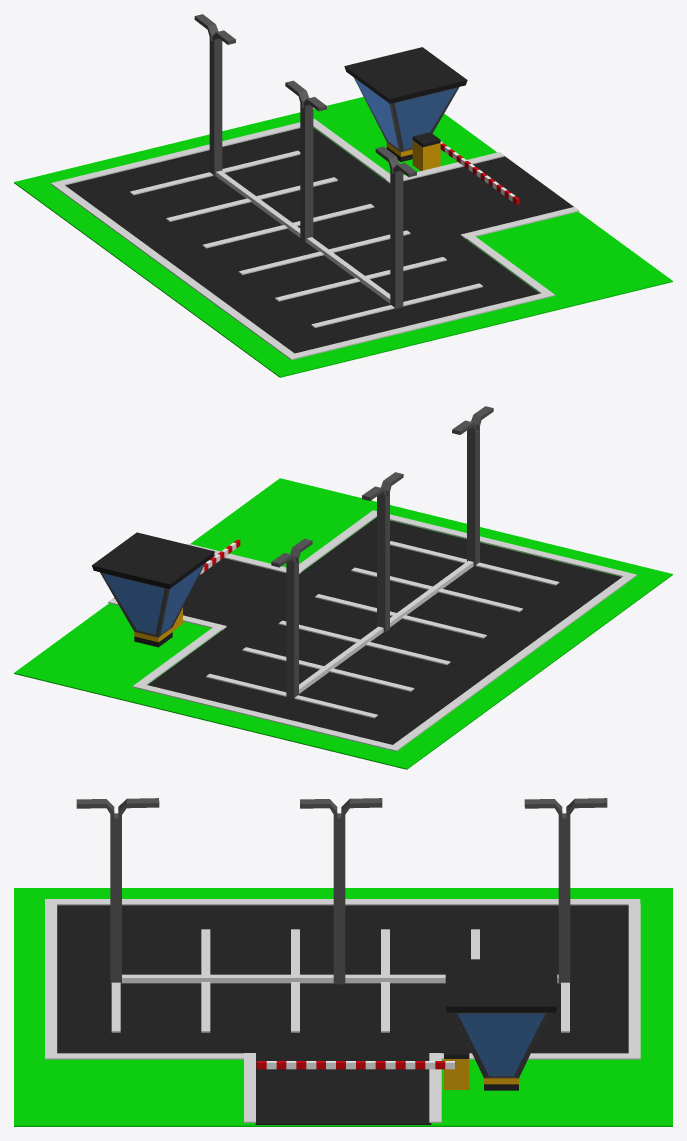
File: ParkingLot.fbx
3 views of the same model, one above another, from view 1: azimuth 30°, elevation 25°; view 2: azimuth 150°, elevation 25°; view 3: azimuth 270°, elevation 25° (orthographic). The views are drawn at different scales.
Visible parts, largest first — view 1: Cube.008, Cube, Cube.019, Cube.004, Cube.018, Cube.017, Cube.016, Cube.009, Cube.007, Cube.003, Cube.015, Cube.006 (+10 smaller); view 2: Cube.008, Cube, Cube.019, Cube.004, Cube.016, Cube.017, Cube.018, Cube.009, Cube.003, Cube.007, Cube.010, Cube.015 (+6 smaller); view 3: Cube.008, Cube, Cube.019, Cube.004, Cube.009, Cube.017, Cube.016, Cube.018, Cube.003, Cube.007, Cube.022, Cube.006 (+8 smaller).
Boxes of the visible parts, box(x1,y1,x2,y2) form: Cube.008: box(65, 128, 573, 353); Cube: box(14, 97, 672, 377); Cube.019: box(344, 47, 467, 161); Cube.004: box(50, 181, 299, 360); Cube.018: box(375, 146, 416, 308); Cube.017: box(285, 80, 326, 242); Cube.016: box(194, 14, 235, 176); Cube.009: box(216, 170, 390, 303); Cube.007: box(295, 292, 554, 357); Cube.003: box(59, 118, 314, 185); Cube.015: box(311, 283, 482, 327); Cube.006: box(462, 232, 554, 296); Cube.008: box(114, 517, 621, 744); Cube: box(14, 478, 672, 769); Cube.019: box(92, 532, 214, 647); Cube.004: box(388, 572, 636, 751); Cube.016: box(271, 538, 312, 698); Cube.017: box(362, 472, 403, 632); Cube.018: box(452, 406, 493, 566); Cube.009: box(299, 560, 473, 693); Cube.003: box(132, 683, 392, 749); Cube.007: box(369, 510, 627, 576); Cube.010: box(206, 674, 377, 718); Cube.015: box(390, 541, 559, 585); Cube.008: box(57, 905, 628, 1124); Cube: box(14, 888, 672, 1126); Cube.019: box(445, 959, 557, 1090); Cube.004: box(45, 899, 640, 905); Cube.009: box(122, 974, 558, 983); Cube.017: box(300, 798, 382, 984); Cube.016: box(524, 798, 607, 984); Cube.018: box(76, 798, 159, 984); Cube.003: box(628, 904, 640, 1059); Cube.007: box(45, 904, 56, 1059); Cube.022: box(256, 1061, 454, 1069); Cube.006: box(45, 1053, 255, 1059).
Bounding box in the file's own units: 25830 × 9350 × 30279.
